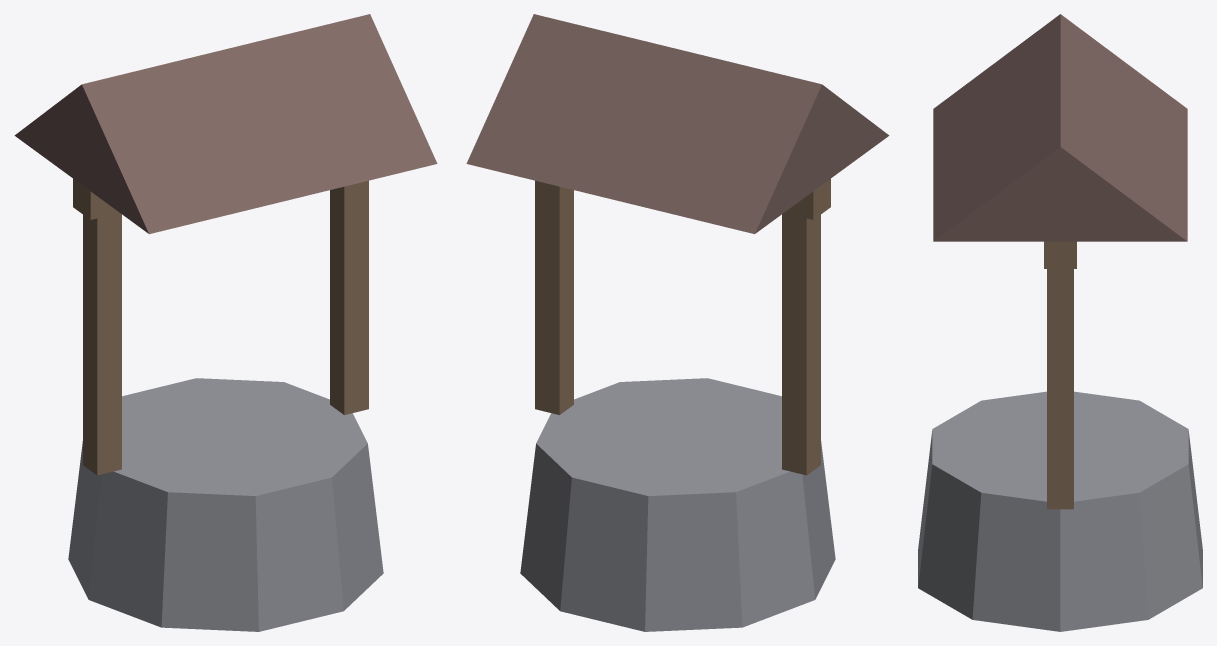
File: well.glb
3 views of the same model, side by side, from view 1: azimuth 30°, elevation 25°; view 2: azimuth 150°, elevation 25°; view 3: azimuth 270°, elevation 25° (orthographic). The views are drawn at different scales.
Parts seen in each view (by area): view 1: well; view 2: well; view 3: well.
Boxes of the visible parts, x1,y1,x2,y2 form: well: [14, 14, 437, 631]; well: [466, 14, 889, 631]; well: [918, 14, 1202, 631].
Bounding box in the file's own units: 2.1 × 3.6 × 1.9.
